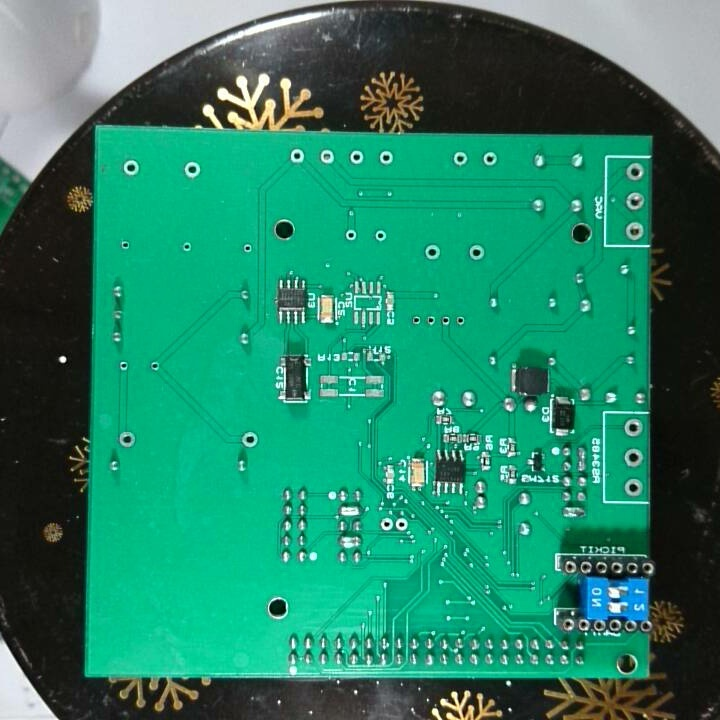F: (621, 474, 645, 500), (621, 415, 645, 440), (622, 446, 644, 472), (622, 160, 646, 183), (622, 220, 647, 242), (622, 191, 646, 213), (115, 428, 138, 450), (422, 241, 445, 263), (182, 158, 202, 182), (240, 428, 260, 452), (121, 158, 142, 180), (317, 146, 339, 166), (466, 241, 485, 264), (347, 147, 366, 168), (451, 148, 470, 169), (480, 148, 499, 169), (289, 146, 308, 166), (394, 514, 411, 536), (436, 312, 454, 331), (452, 311, 469, 330), (378, 515, 395, 534), (342, 224, 358, 244), (377, 149, 395, 166), (372, 227, 388, 246), (408, 312, 425, 329), (424, 311, 438, 329), (117, 237, 133, 252), (179, 239, 194, 255), (117, 358, 131, 375), (147, 357, 161, 374), (241, 240, 253, 258)
P: (559, 503, 590, 522), (574, 442, 591, 473), (336, 534, 365, 549), (336, 503, 364, 518)
